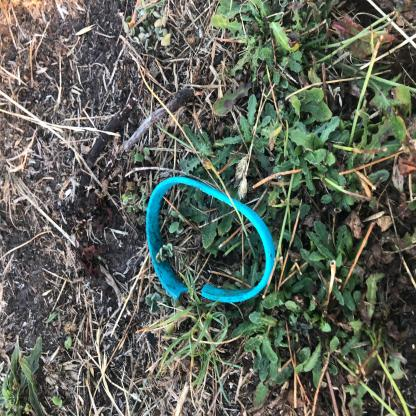trash: (78, 183, 183, 382)
